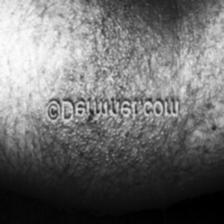Toxin: (46, 6, 148, 98), (52, 116, 172, 164)
